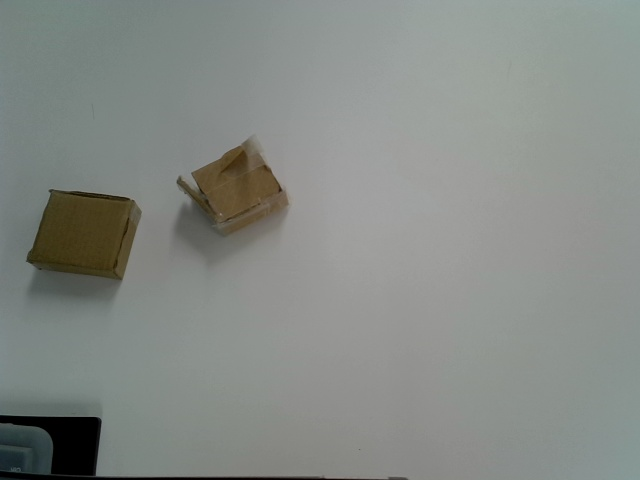defect: (176, 134, 287, 237)
normal: (27, 190, 142, 281)
